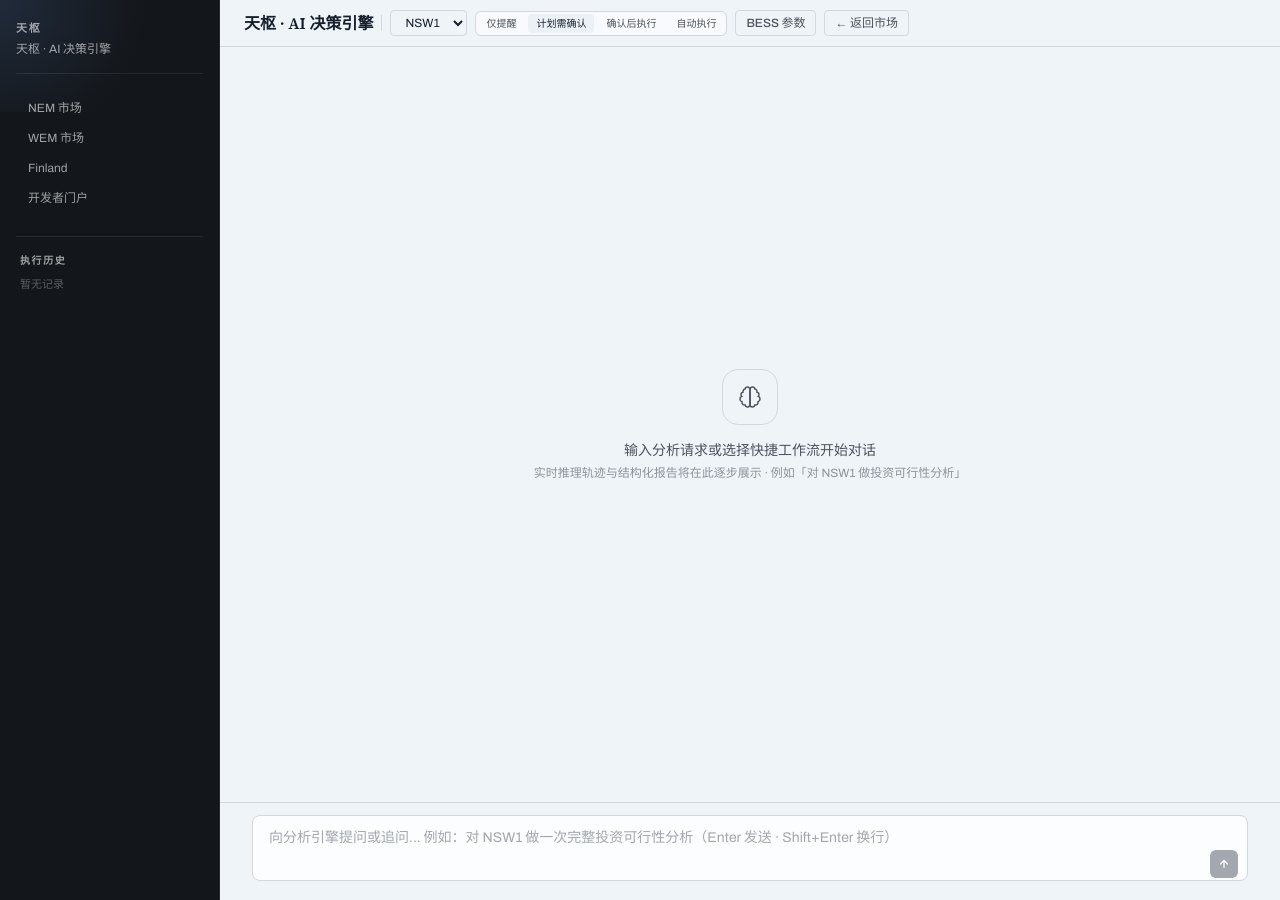
it: AgentPage P0 行为 › 清空对话后审计时间线仍可见，撤销可恢复消息
This screenshot has width=1280, height=900.
Replace the text in the text box with placeholder "投资可行性分析" with "测试问题": (750, 848) left=252, top=815, right=1248, bottom=881
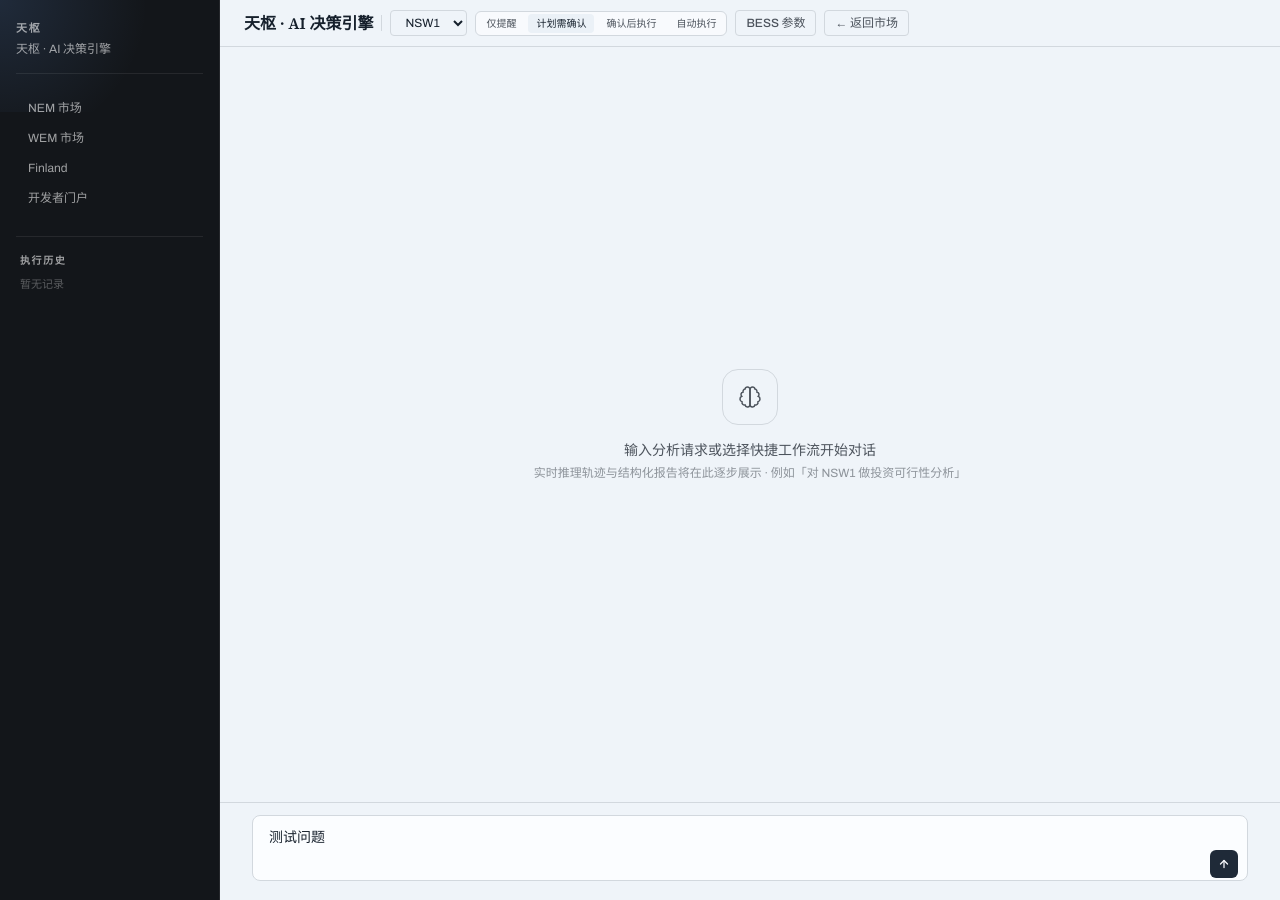
Press Enter in the text box with placeholder "投资可行性分析", box left=252, top=815, right=1248, bottom=881
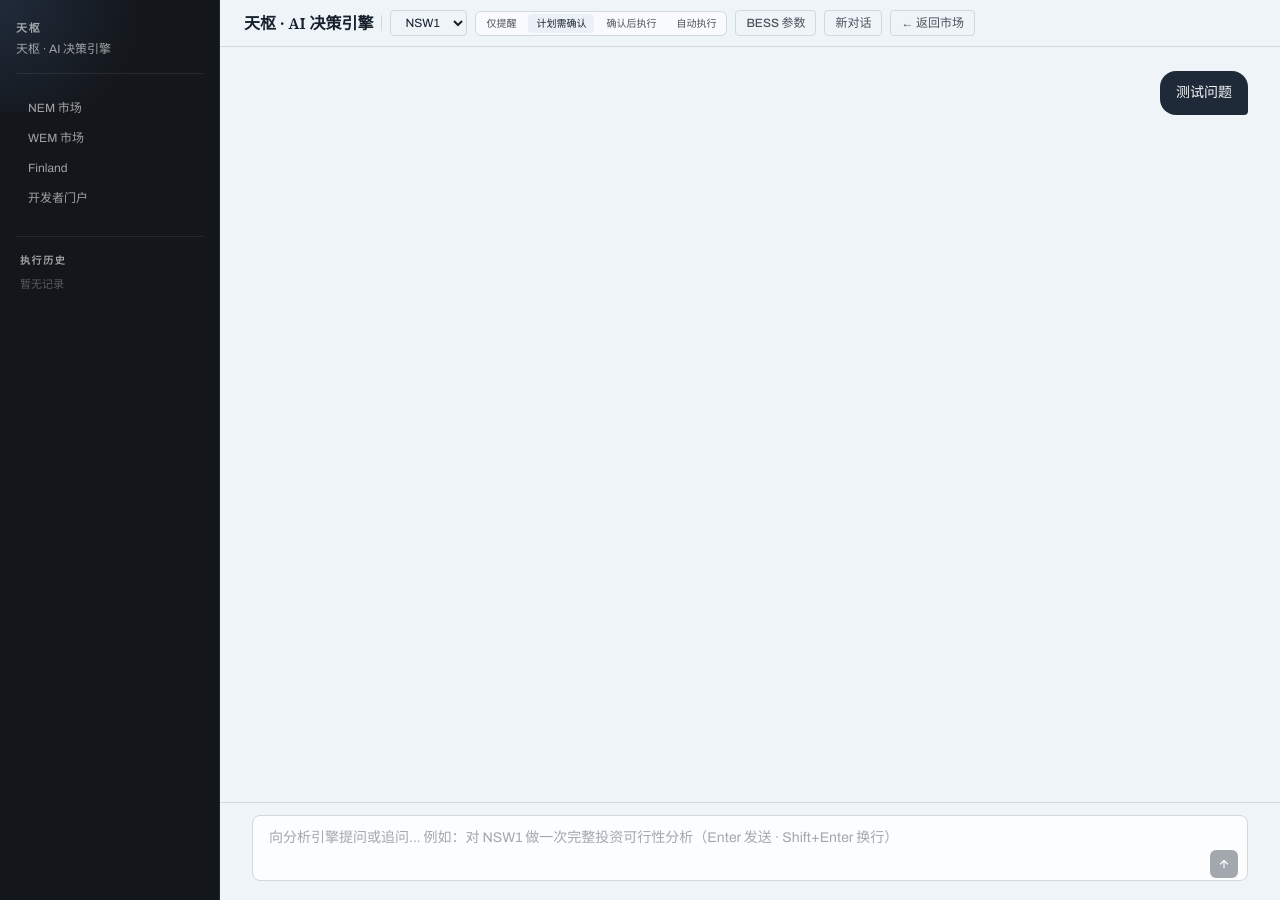
Expected: the text "测试问题" is shown, left=1160, top=71, right=1248, bottom=115
Click the button "新对话": click(854, 23) left=824, top=10, right=882, bottom=36
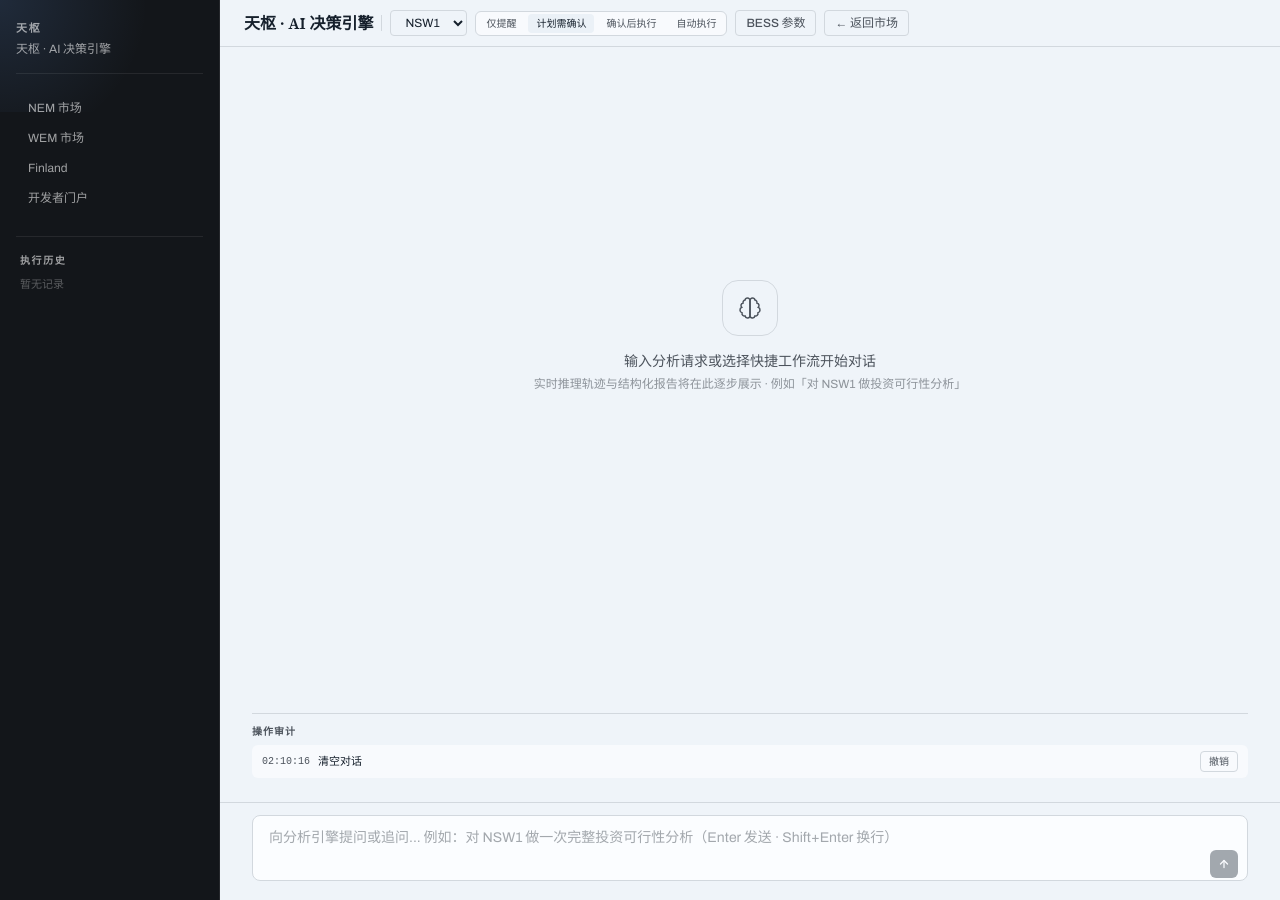
Expected: the text "输入分析请求或选择快捷工作流开始对话" is shown, left=624, top=354, right=876, bottom=368
Expected: the text "清空对话" is shown, left=318, top=755, right=362, bottom=767
Expected: the button "撤销" is shown
Click the button "撤销": click(1219, 762) left=1200, top=751, right=1238, bottom=772
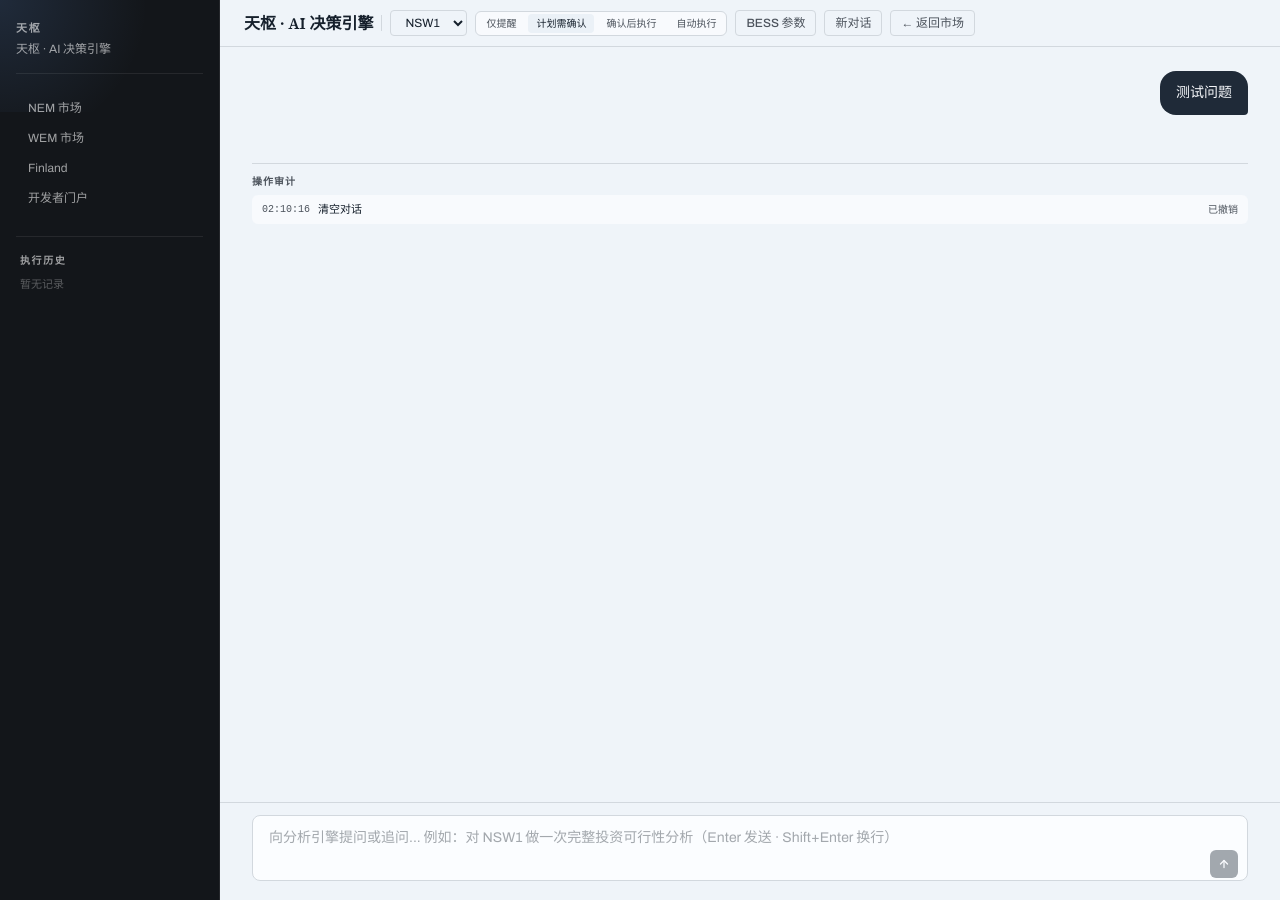
Expected: the text "测试问题" is shown, left=1160, top=71, right=1248, bottom=115
